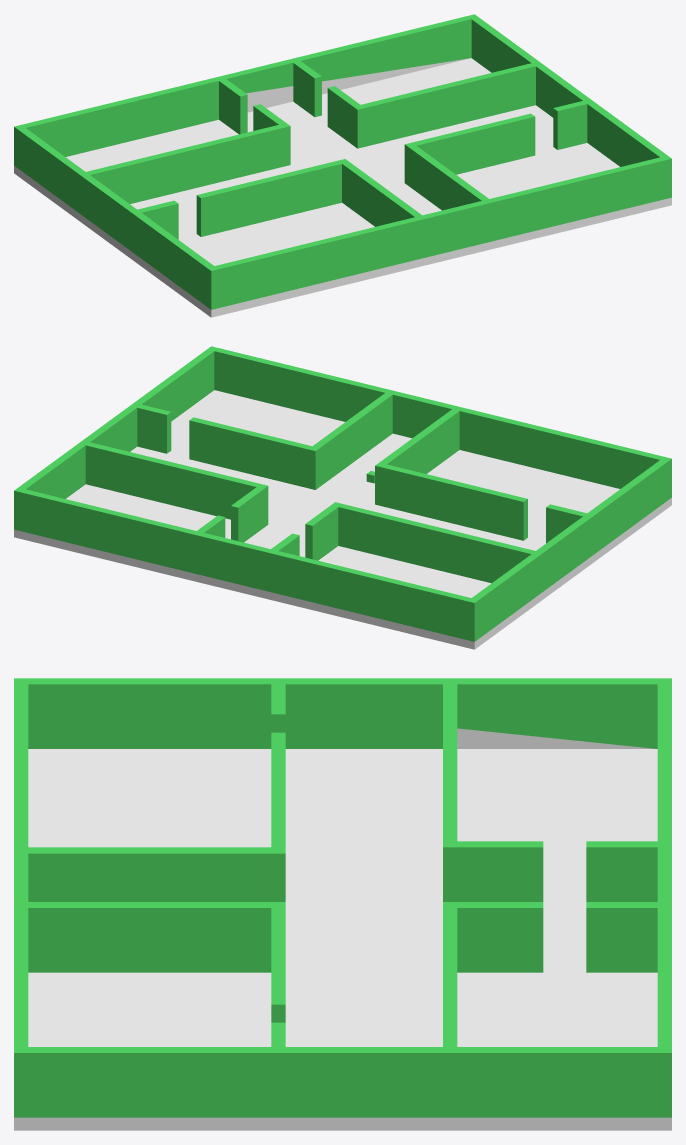
3 views of the same model, one above another, from view 1: azimuth 30°, elevation 25°; view 2: azimuth 150°, elevation 25°; view 3: azimuth 270°, elevation 25° (orthographic). The views are drawn at different scales.
Parts seen in each view (by area): view 1: Block_All; view 2: Block_All; view 3: Block_All.
Part boxes in pixels (<box>): Block_All: <box>14,14,671,317</box>; Block_All: <box>14,346,671,649</box>; Block_All: <box>14,678,671,1130</box>.
Size of the model in its own units: 62 by 6 by 46.
